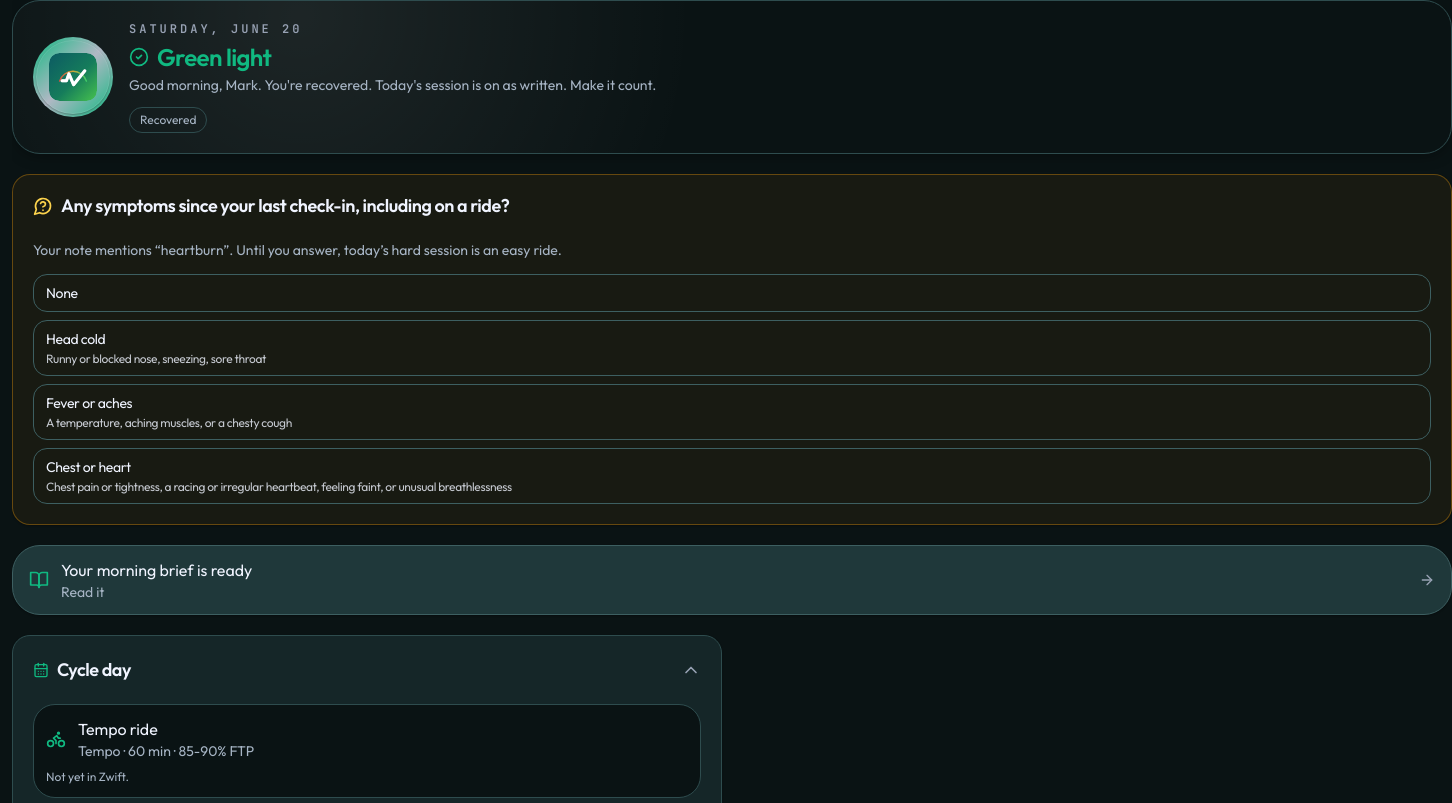
Test: DashboardPage › asks the symptom question on Home and answers it in one tap, for today (Batch 303)
This screenshot has width=1452, height=803.
Expected: the text "Your note mentions “heartburn”. Until you answer, today’s hard session is an easy ride." is shown, [33,240,562,258]
Click the button "None" at x=62, y=292, box [33,274,1431,312]
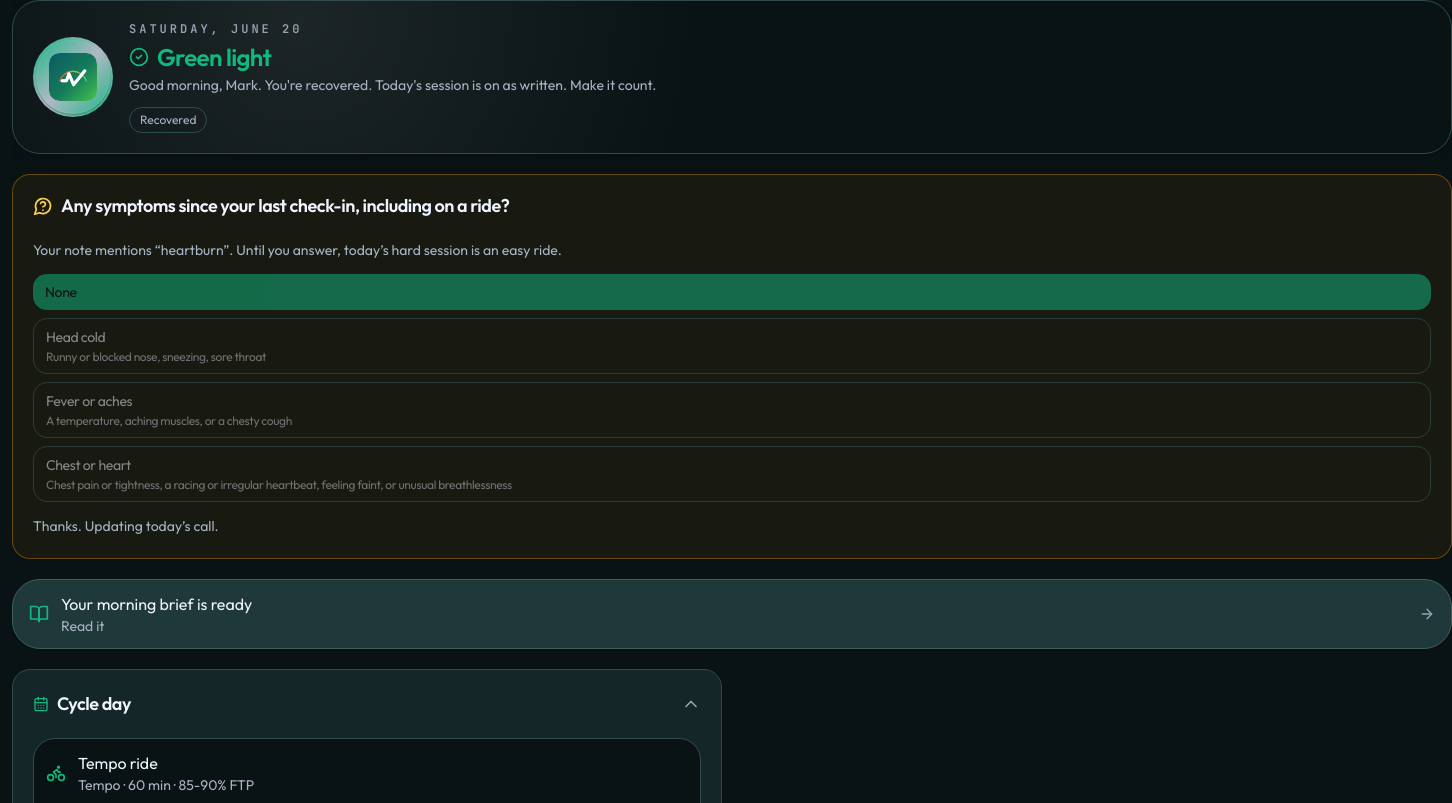
Expected: the text "Thanks. Updating today’s call." is shown, [33,516,219,534]
